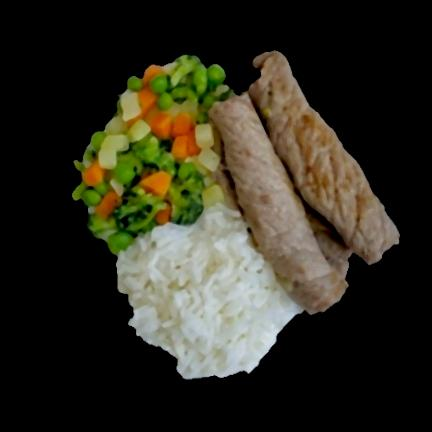green_vegetables: (72, 54, 234, 257)
meat: (211, 46, 402, 316)
rice: (115, 206, 309, 382)
